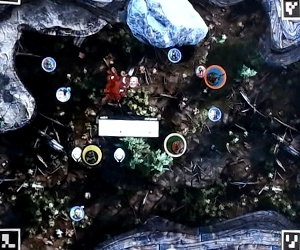giant_red_octopus: (100, 71, 131, 102)
green: (165, 133, 188, 156)
light_blue_orange: (203, 66, 226, 89)
lime_green_violet: (80, 143, 103, 166)
